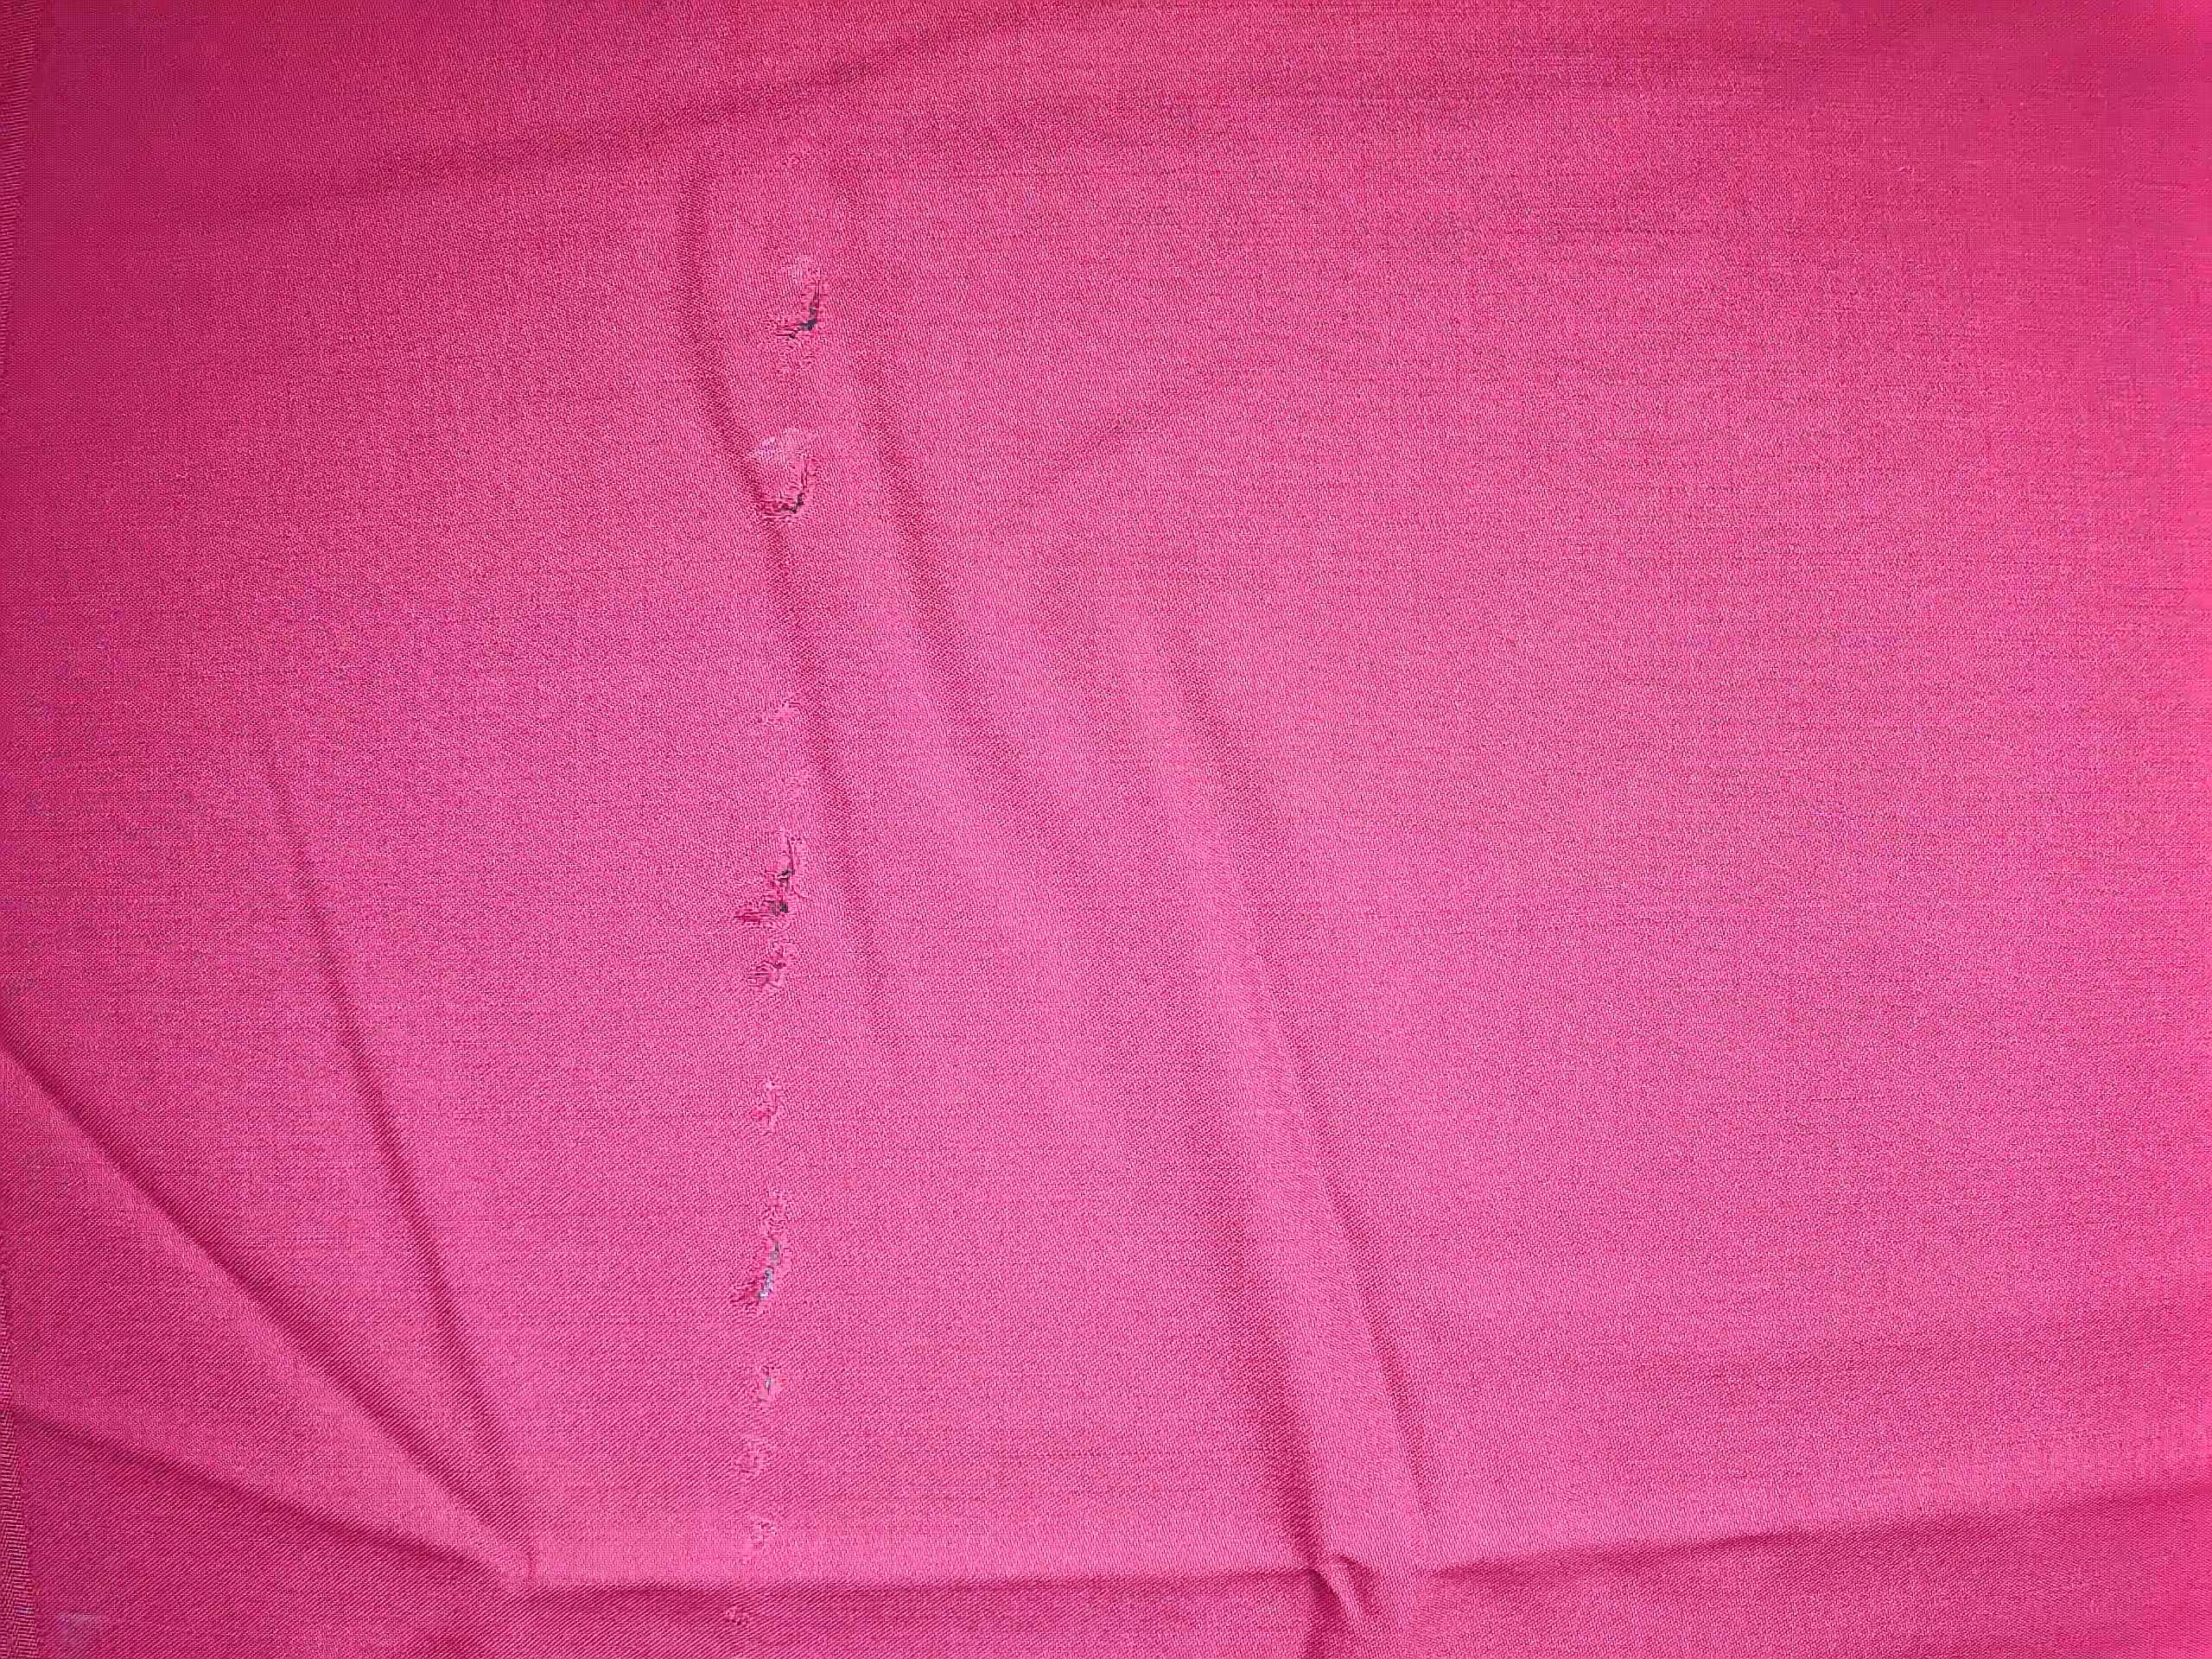rubbing-hole: (711, 246, 852, 1546)
